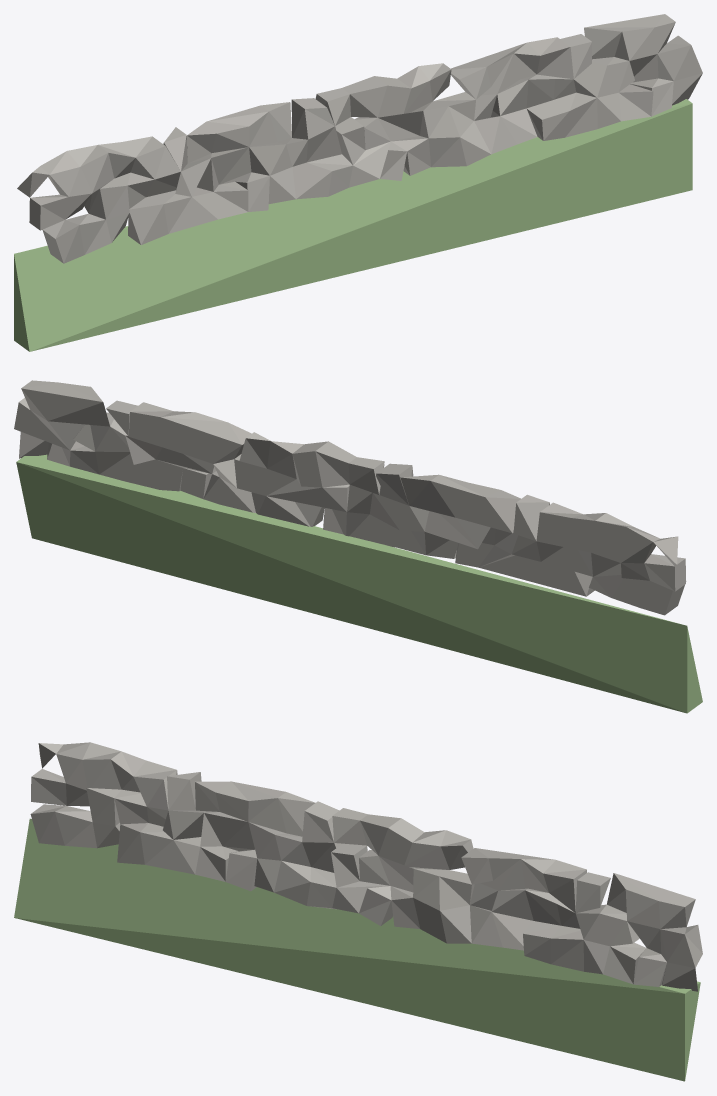
The model's file is r-115-quinsigamond-granite-riprap.lod1.glb.
The picture shows the model from 3 angles, top to bottom: view 1: azimuth 30°, elevation 25°; view 2: azimuth 150°, elevation 25°; view 3: azimuth 330°, elevation 25°; orthographic projection.
Visible parts, largest first — view 1: riprap, grass-top; view 2: grass-top, riprap; view 3: riprap, grass-top.
Part boxes in pixels (x1=…): riprap: x1=17, y1=14, x2=702, y2=263; grass-top: x1=14, y1=99, x2=692, y2=351; grass-top: x1=16, y1=454, x2=702, y2=713; riprap: x1=14, y1=380, x2=686, y2=615; riprap: x1=30, y1=742, x2=702, y2=991; grass-top: x1=14, y1=818, x2=700, y2=1081.
Bounding box in the file's own units: 32496 × 7988 × 2000.
